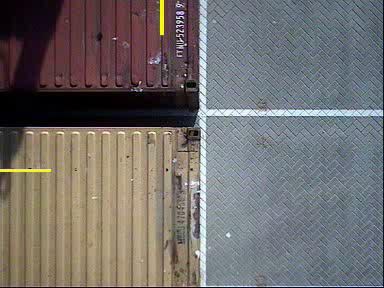groundmarker_2: (178, 73, 233, 111), (180, 223, 234, 261)
